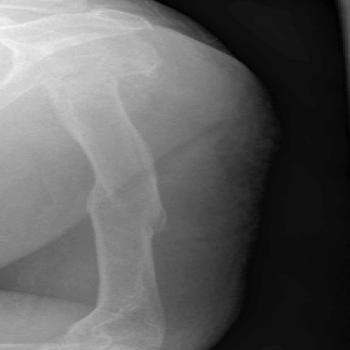Fracture: (65, 180, 180, 244)
